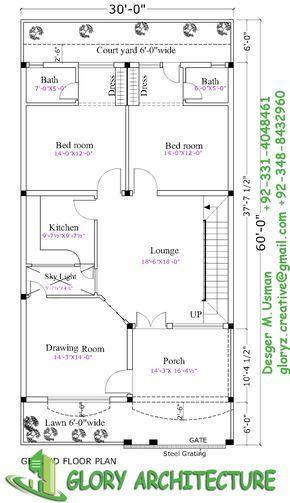Blueprint: (15, 14, 237, 448)
wall: (18, 17, 236, 24), (19, 65, 28, 192), (227, 194, 235, 325), (227, 66, 235, 192), (19, 298, 28, 399), (122, 103, 131, 192), (19, 195, 27, 295), (155, 188, 231, 198), (25, 188, 101, 197), (19, 440, 126, 446), (19, 98, 80, 107), (181, 98, 235, 108), (228, 327, 235, 398), (125, 327, 134, 371), (42, 60, 81, 70), (178, 60, 214, 69), (228, 401, 236, 441), (93, 218, 99, 271), (229, 17, 235, 65), (19, 17, 25, 64), (19, 401, 25, 447), (107, 395, 129, 405), (25, 395, 49, 404), (73, 60, 81, 84), (180, 61, 187, 83), (110, 61, 127, 69), (128, 61, 141, 69), (165, 321, 174, 330)
